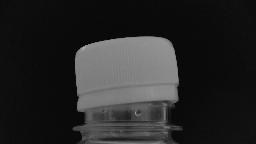Loose Cap: (70, 82, 190, 136)
